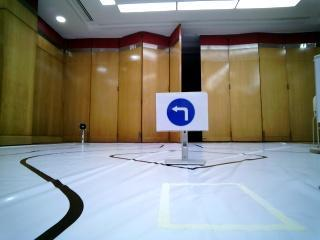left: (158, 94, 206, 128)
